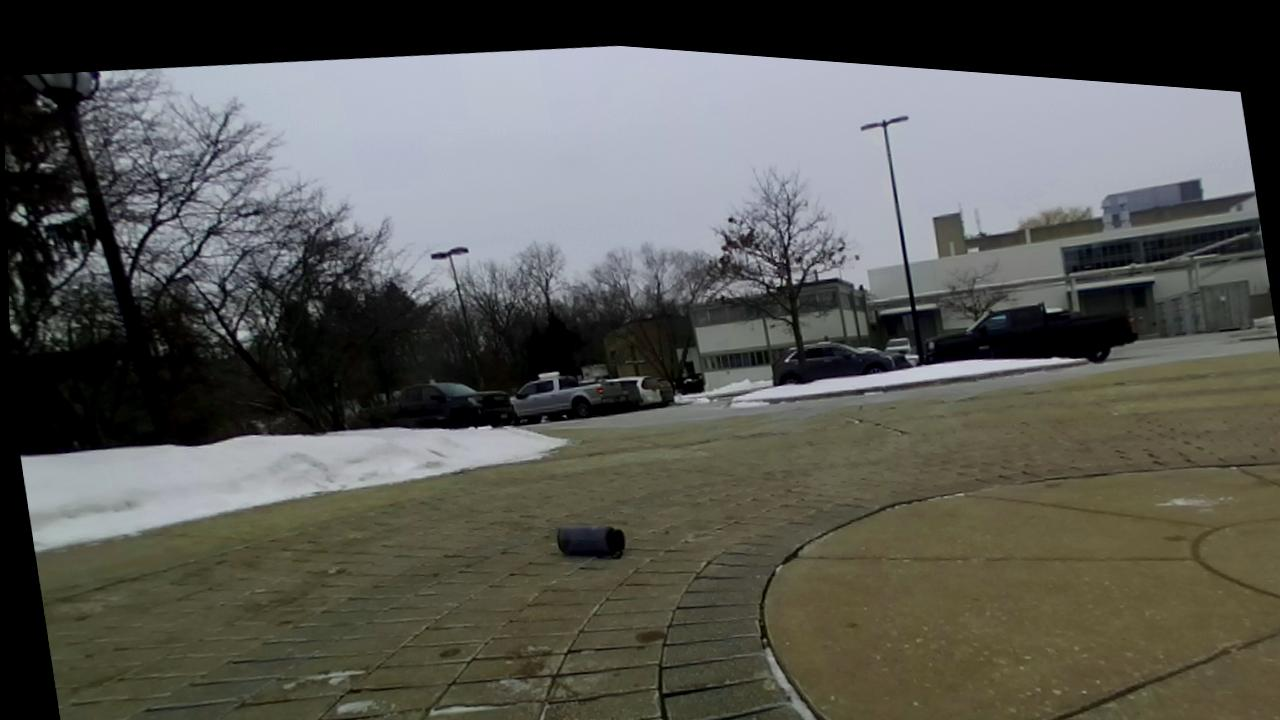bottle: (558, 525, 625, 557)
